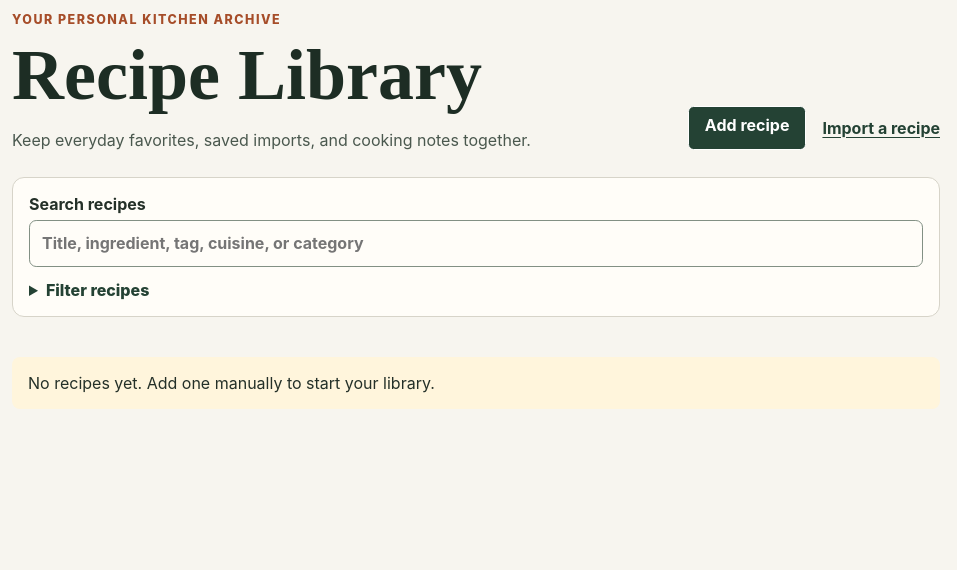
Test: offers unified search, filters, clear recovery, and a distinct no-match state
Type "blackstone" into the search field labelled "Search recipes" at (476, 243), box [29,220,923,266]
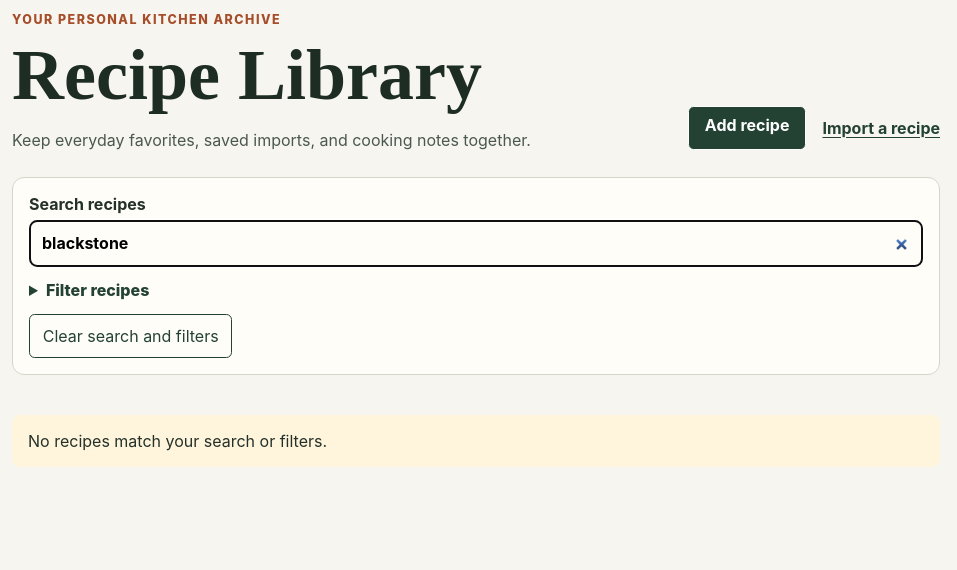
expect the button "Clear search and filters" is shown: met, box [29,314,232,358]
Click the heading "Filter recipes" at (98, 290), box [46,280,149,300]
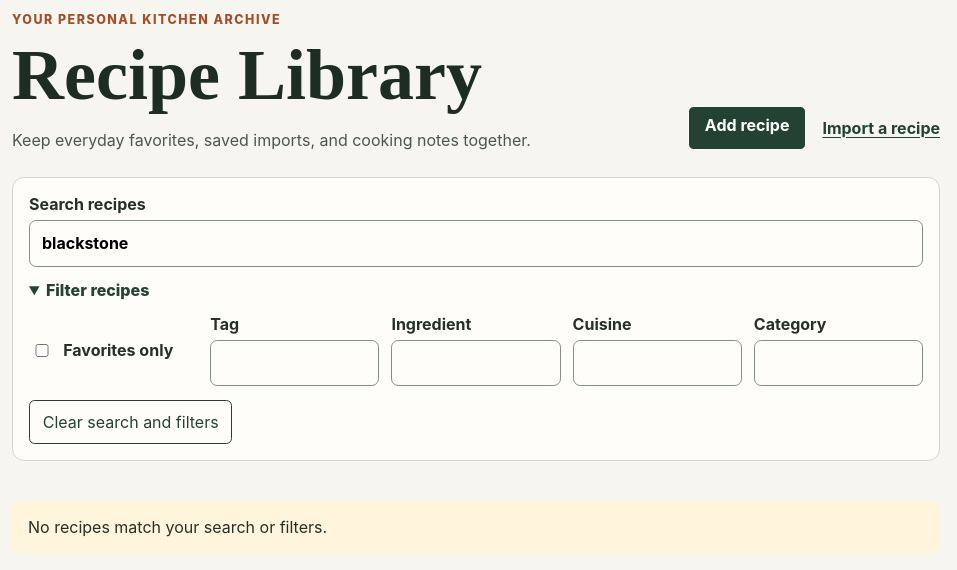
expect the checkbox labelled "Favorites only" is shown: met
Click the checkbox labelled "Favorites only" at (42, 350), box [33,344,51,357]
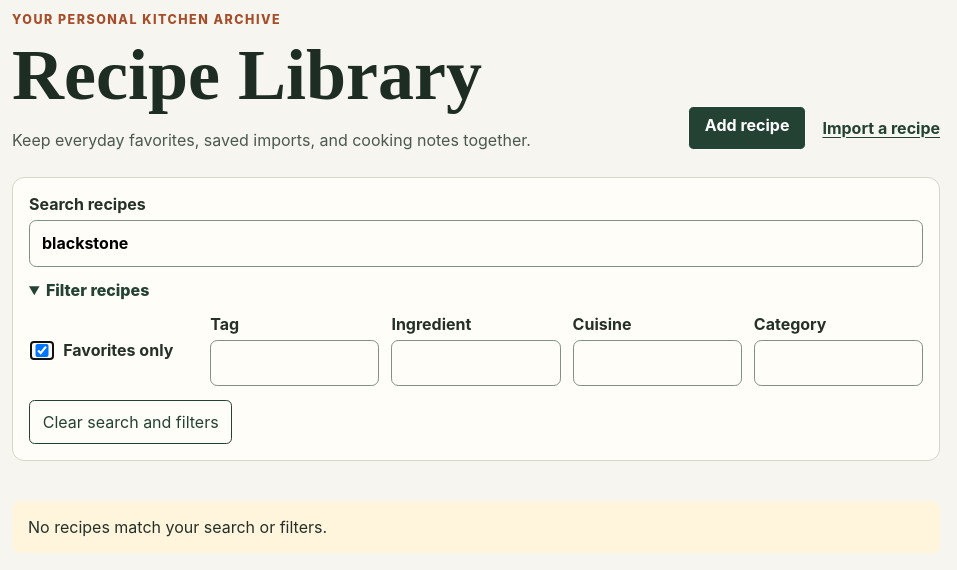
Click the button "Clear search and filters" at (131, 422), box [29,400,232,444]
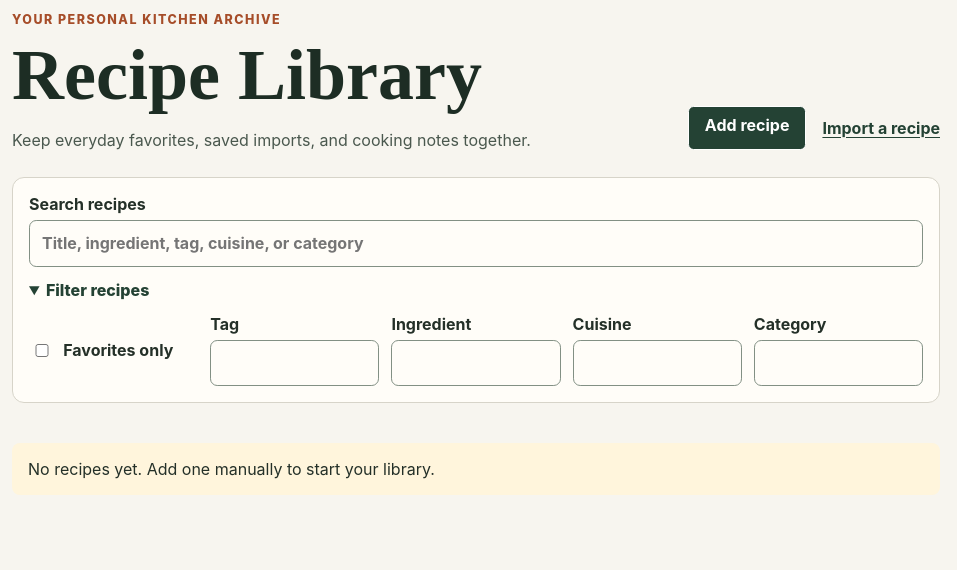
expect the search field labelled "Search recipes" is empty: met, box [29,220,923,266]
